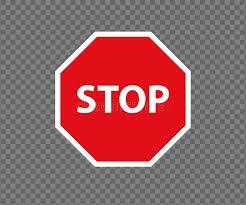stop sign: (55, 31, 192, 168)
